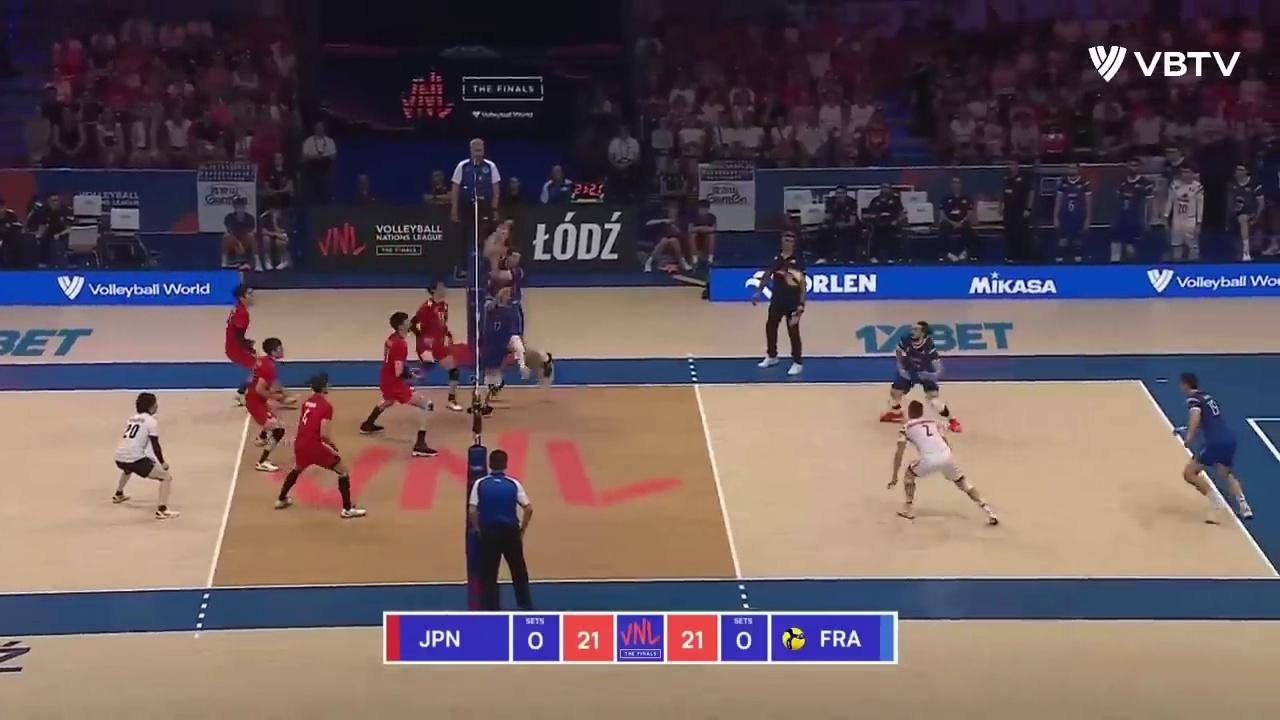ball: (787, 270, 803, 285)
